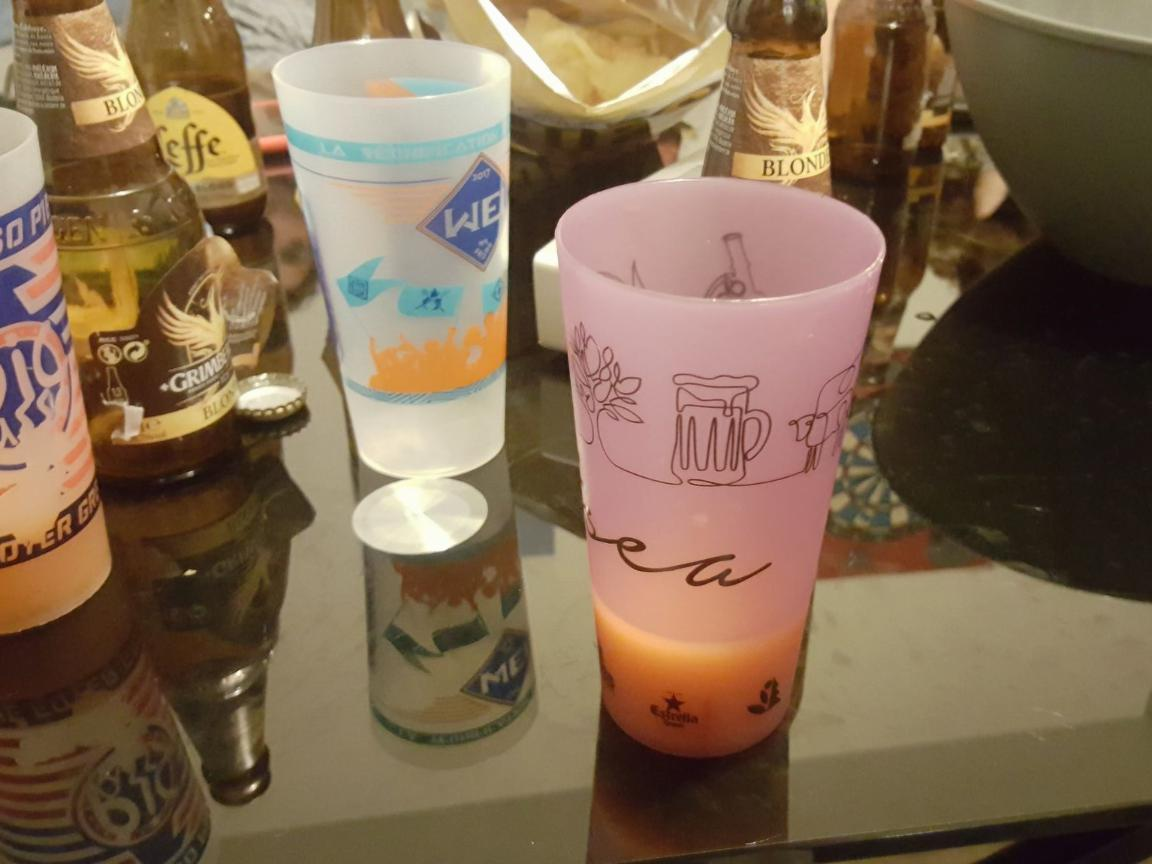ecocup: (554, 177, 888, 763), (275, 37, 514, 485)
